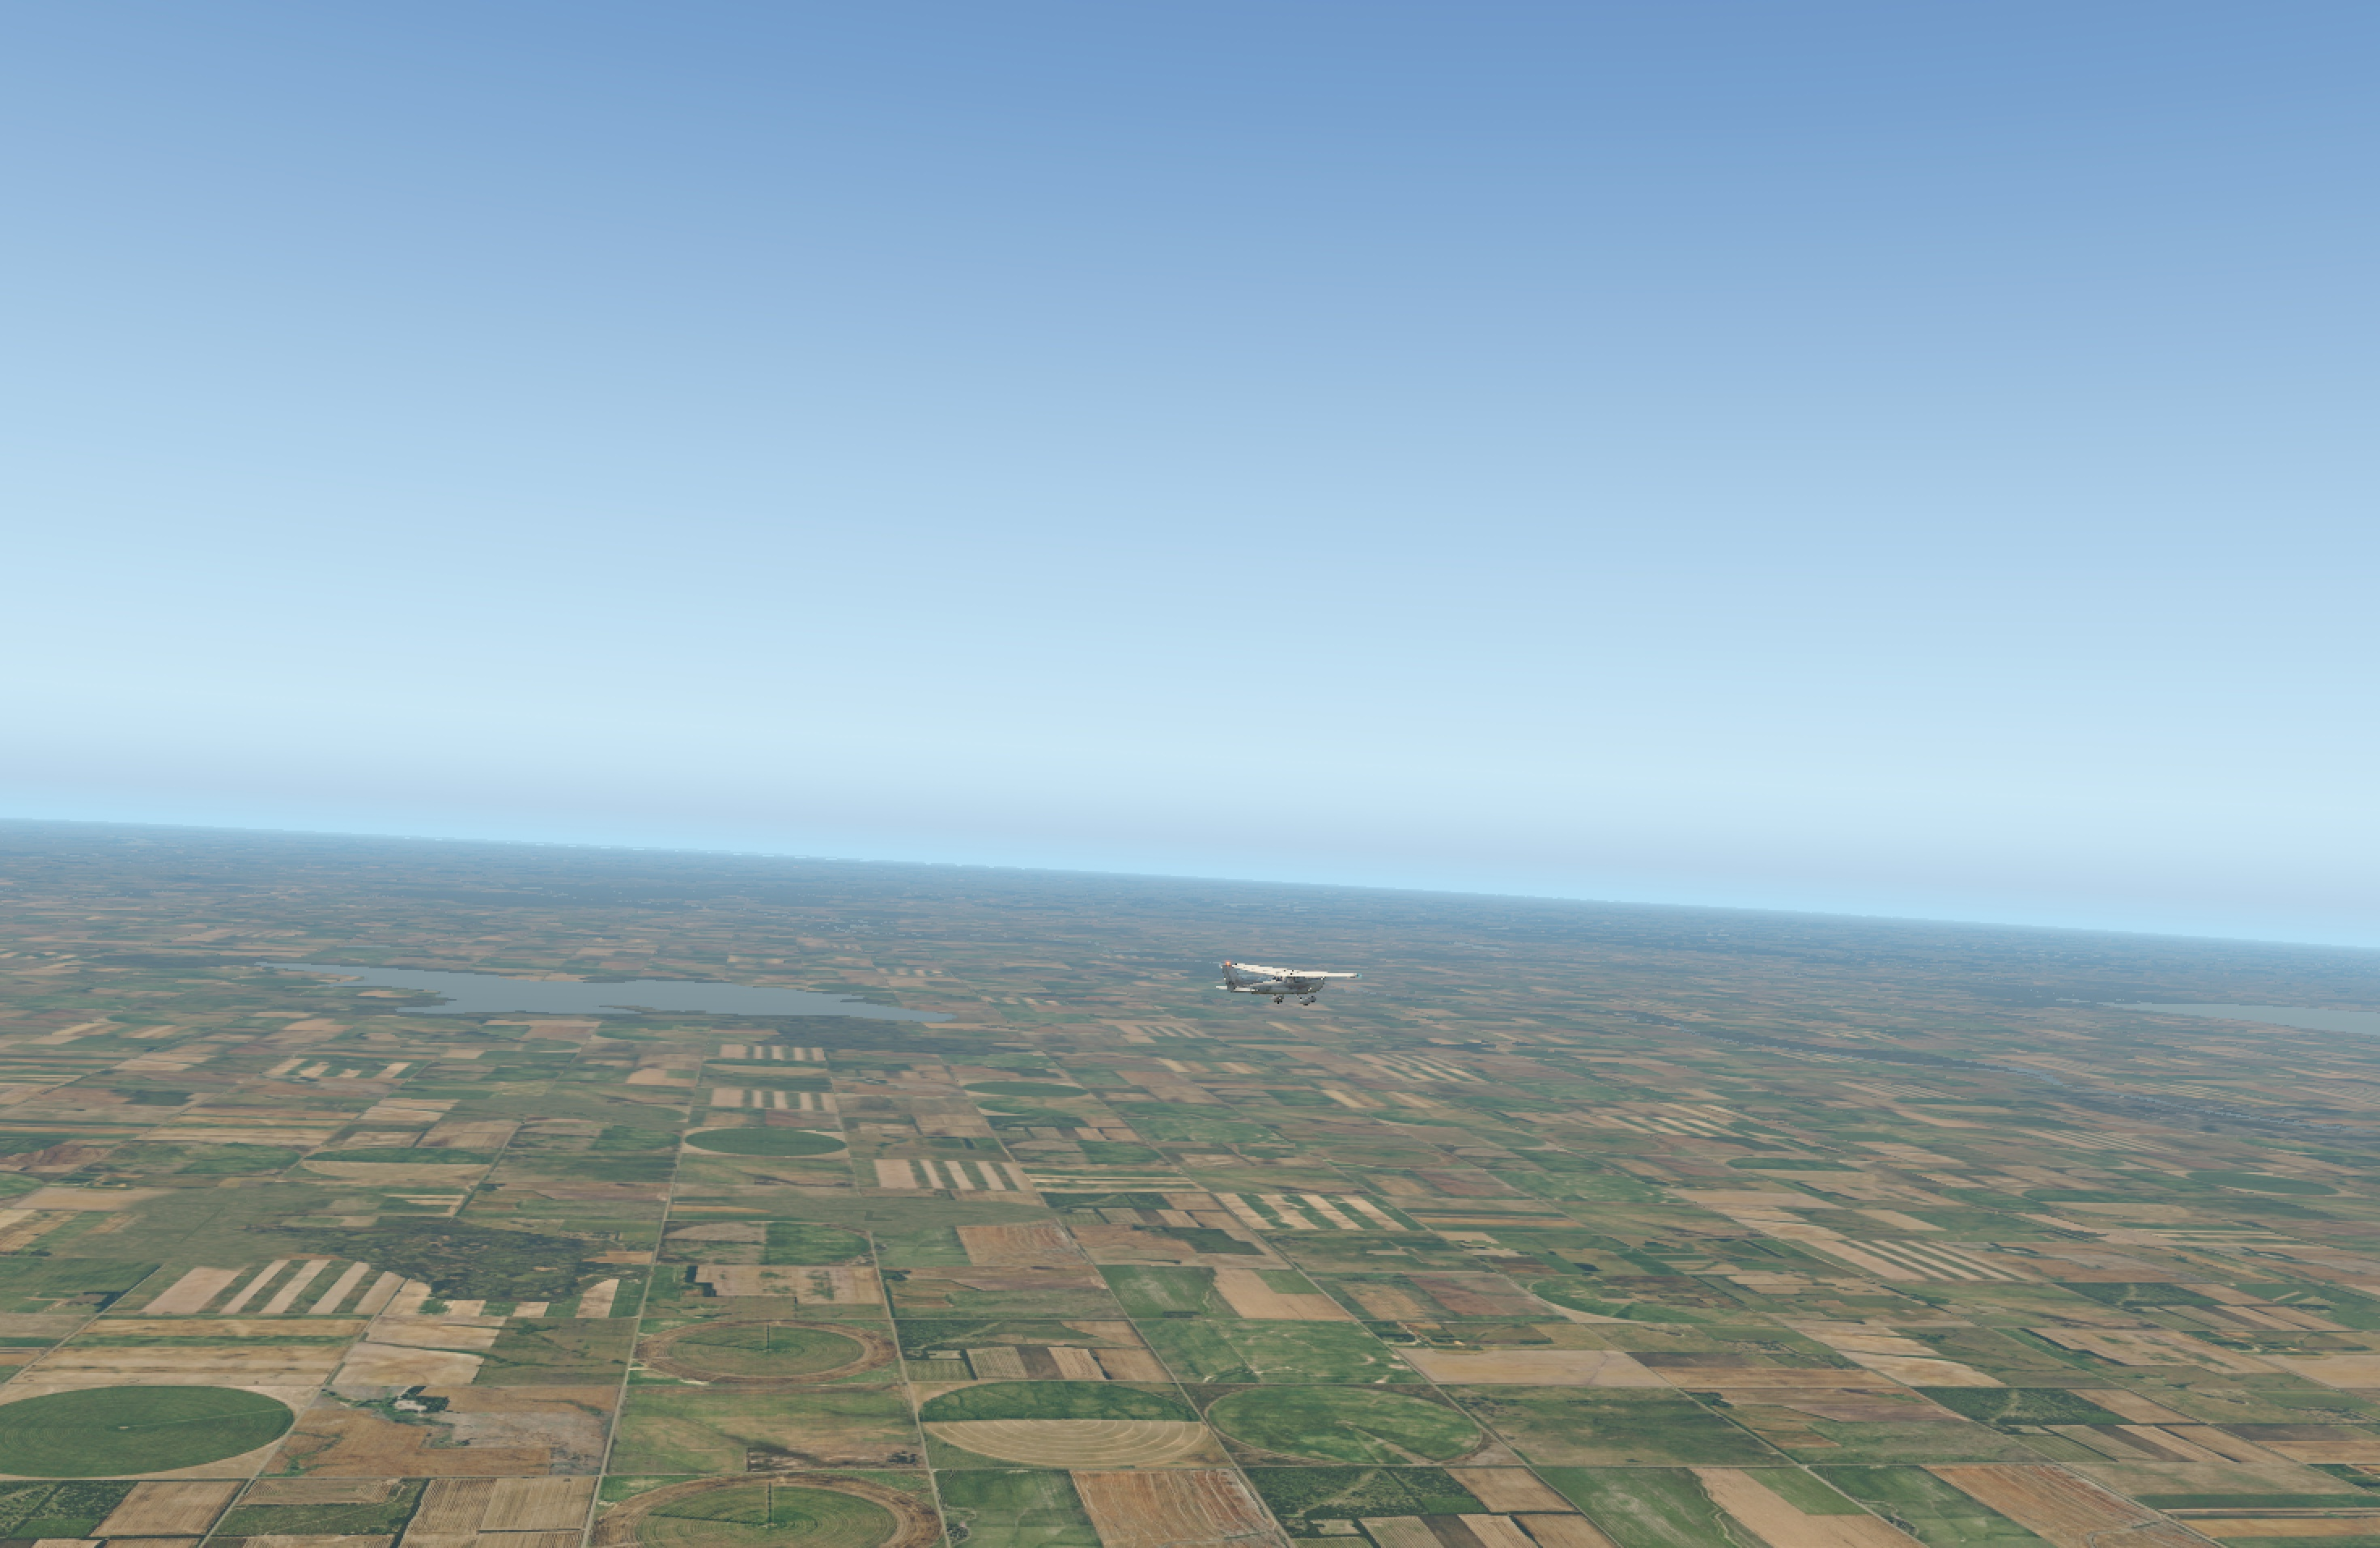aircraft: (1230, 958, 1360, 1007)
